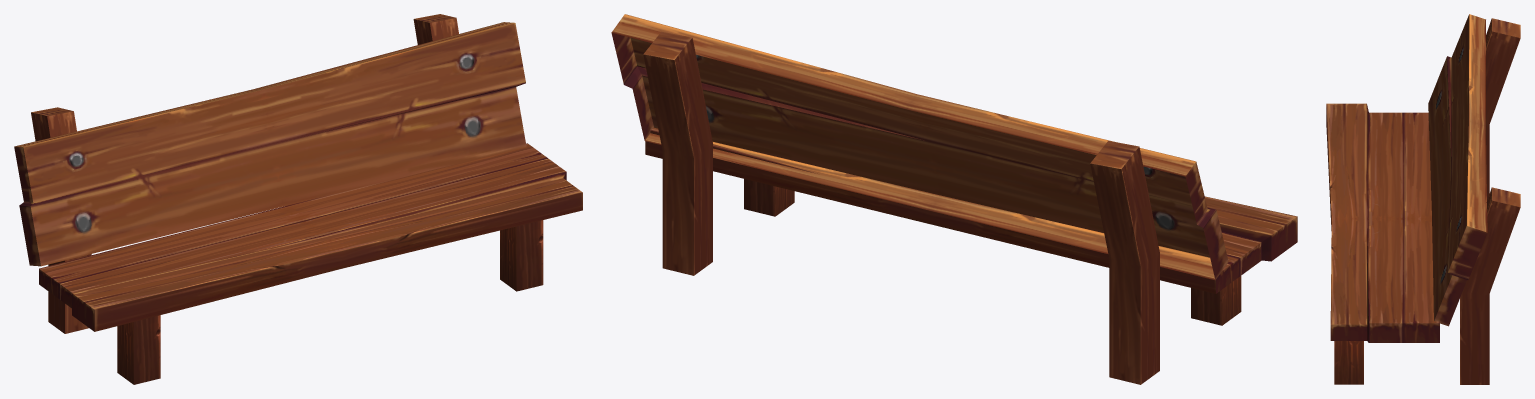
File: YiZi05.FBX
The picture shows the model from 3 angles, left to right: view 1: azimuth 30°, elevation 25°; view 2: azimuth 150°, elevation 25°; view 3: azimuth 270°, elevation 25°; orthographic projection. The views are drawn at different scales.
Visible parts, largest first — view 1: YiZi05; view 2: YiZi05; view 3: YiZi05.
Part boxes in pixels (x1=…): YiZi05: x1=14, y1=14, x2=582, y2=384; YiZi05: x1=611, y1=14, x2=1297, y2=384; YiZi05: x1=1326, y1=14, x2=1520, y2=384.
Bounding box in the file's own units: 128 × 50.25 × 47.64.
